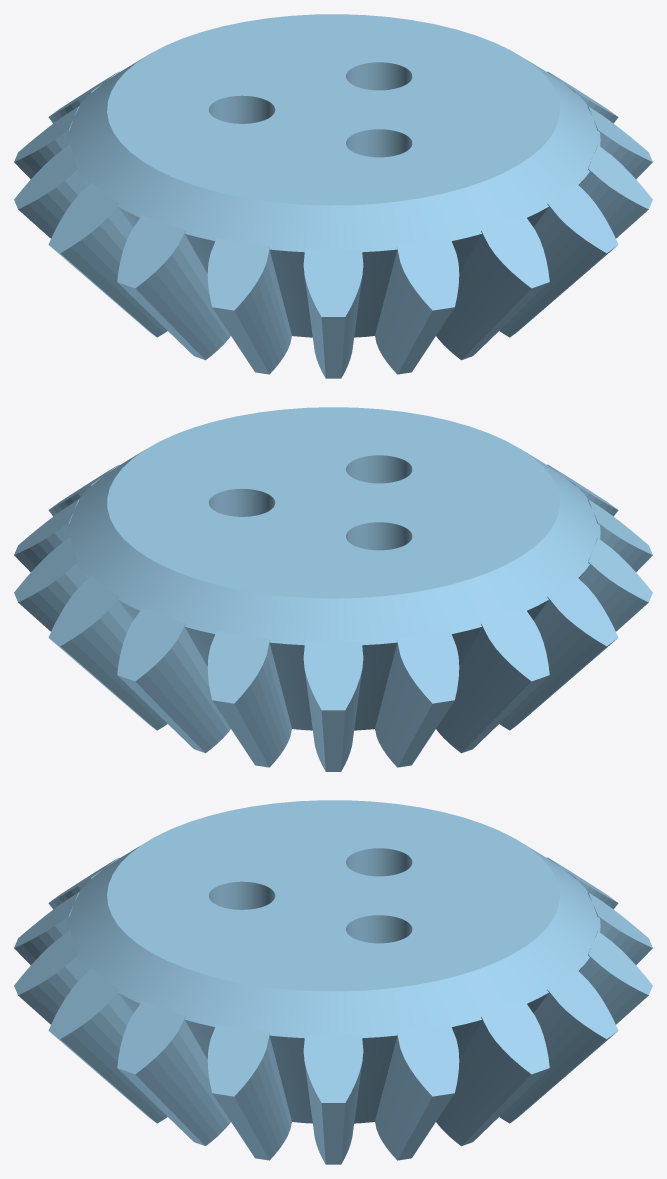
3 renders of one model, top to bottom at view 1: azimuth 30°, elevation 25°; view 2: azimuth 150°, elevation 25°; view 3: azimuth 270°, elevation 25°, orthographic.
Parts seen in each view (by area): view 1: mesh1043, mesh1352, mesh1094, mesh1077, mesh1111, mesh1128, mesh1365, mesh1145, mesh1349, mesh1060, mesh1061, mesh1162 (+37 smaller); view 2: mesh1043, mesh1352, mesh1196, mesh1179, mesh1213, mesh1162, mesh1230, mesh1145, mesh1247, mesh1054, mesh1055, mesh1128 (+37 smaller); view 3: mesh1043, mesh1352, mesh1298, mesh1281, mesh1315, mesh1264, mesh1332, mesh1247, mesh1349, mesh1048, mesh1049, mesh1230 (+37 smaller).
Boxes of the visible parts, x1=… form: mesh1043: x1=107, y1=14, x2=559, y2=205; mesh1352: x1=66, y1=55, x2=600, y2=252; mesh1094: x1=303, y1=249, x2=363, y2=316; mesh1077: x1=397, y1=238, x2=459, y2=310; mesh1111: x1=207, y1=238, x2=269, y2=310; mesh1128: x1=117, y1=215, x2=185, y2=288; mesh1365: x1=481, y1=215, x2=549, y2=288; mesh1145: x1=48, y1=183, x2=118, y2=253; mesh1349: x1=548, y1=183, x2=618, y2=253; mesh1060: x1=269, y1=249, x2=312, y2=337; mesh1061: x1=354, y1=249, x2=397, y2=337; mesh1162: x1=14, y1=145, x2=78, y2=209; mesh1043: x1=107, y1=407, x2=559, y2=598; mesh1352: x1=66, y1=450, x2=600, y2=645; mesh1196: x1=303, y1=642, x2=363, y2=710; mesh1179: x1=397, y1=631, x2=459, y2=703; mesh1213: x1=207, y1=631, x2=269, y2=703; mesh1162: x1=481, y1=608, x2=549, y2=681; mesh1230: x1=117, y1=608, x2=185, y2=681; mesh1145: x1=548, y1=576, x2=618, y2=646; mesh1247: x1=48, y1=576, x2=118, y2=646; mesh1054: x1=269, y1=642, x2=312, y2=730; mesh1055: x1=354, y1=642, x2=397, y2=730; mesh1128: x1=588, y1=538, x2=652, y2=602; mesh1043: x1=107, y1=800, x2=559, y2=991; mesh1352: x1=66, y1=843, x2=600, y2=1038; mesh1298: x1=303, y1=1034, x2=363, y2=1102; mesh1281: x1=397, y1=1024, x2=459, y2=1096; mesh1315: x1=207, y1=1024, x2=269, y2=1096; mesh1264: x1=481, y1=1001, x2=549, y2=1074; mesh1332: x1=117, y1=1001, x2=185, y2=1074; mesh1247: x1=548, y1=969, x2=618, y2=1039; mesh1349: x1=48, y1=969, x2=118, y2=1039; mesh1048: x1=269, y1=1035, x2=312, y2=1123; mesh1049: x1=354, y1=1035, x2=397, y2=1123; mesh1230: x1=588, y1=931, x2=652, y2=995.
Bounding box in the file's own units: 0.0194 × 0.00601 × 0.0192.
